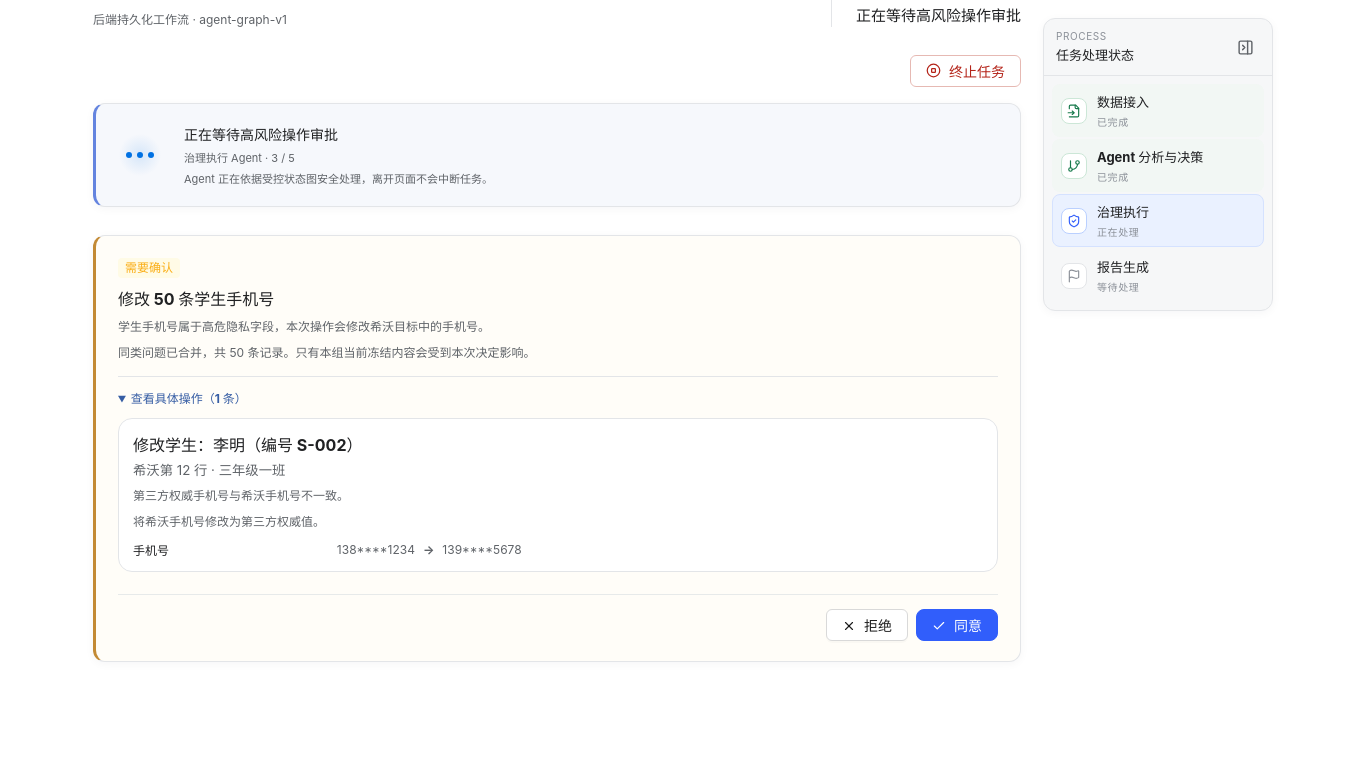
Test: controlled Agent graph task detail › refreshes a stale high-risk list and explains that it must be reviewed again
(page scrolled)
Expected: the element "修改 50 条学生手机号" is shown, left=93, top=234, right=1021, bottom=662
Click the button "同意".
click(957, 625)  # box left=916, top=609, right=998, bottom=641
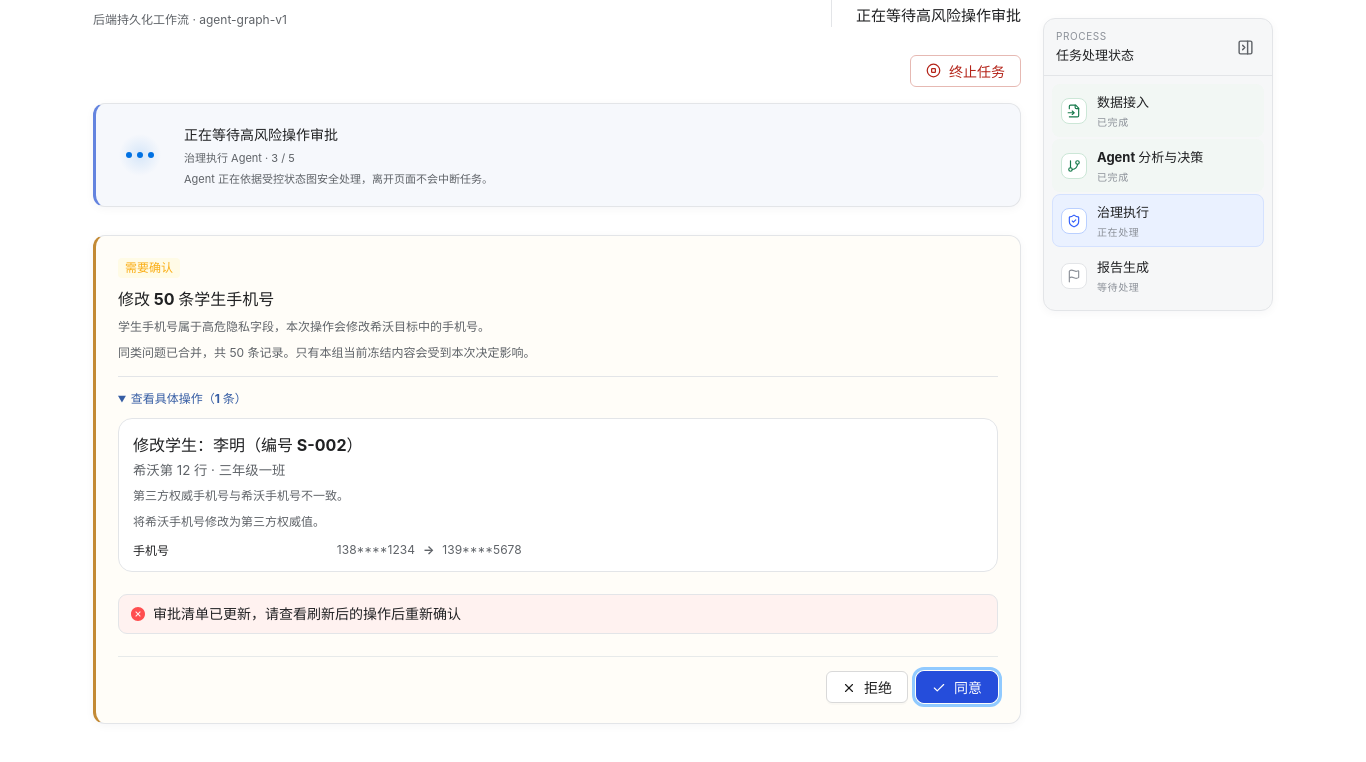
Expected: the text "审批清单已更新，请查看刷新后的操作后重新确认" is shown, left=153, top=605, right=461, bottom=622
